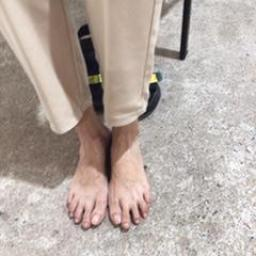Dorsal View -Both Feet-: (52, 100, 161, 239)
